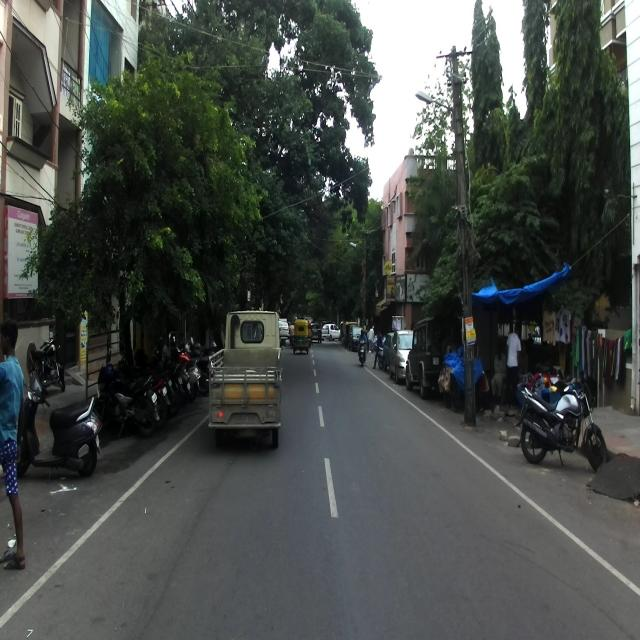Car_Mahindra: (404, 315, 464, 399)
motorcycle_Honda: (514, 368, 608, 472)
motorcycle_RoyalEnfield: (29, 331, 66, 393)
motorcycle_bajaj: (98, 362, 160, 435)
scooter: (17, 376, 102, 479), (159, 345, 193, 416), (162, 342, 201, 403)
truck: (208, 300, 281, 449)
